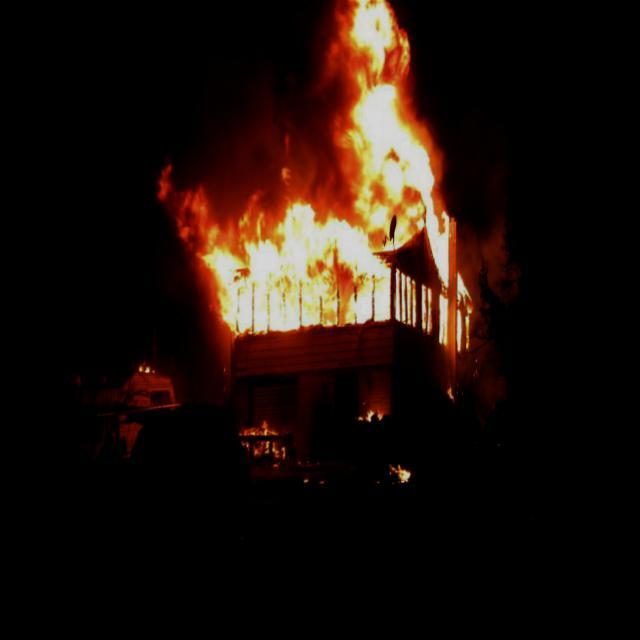Fire: (146, 0, 482, 382), (243, 420, 291, 476), (385, 462, 413, 494), (352, 412, 385, 432), (445, 381, 458, 414), (138, 367, 153, 378)
